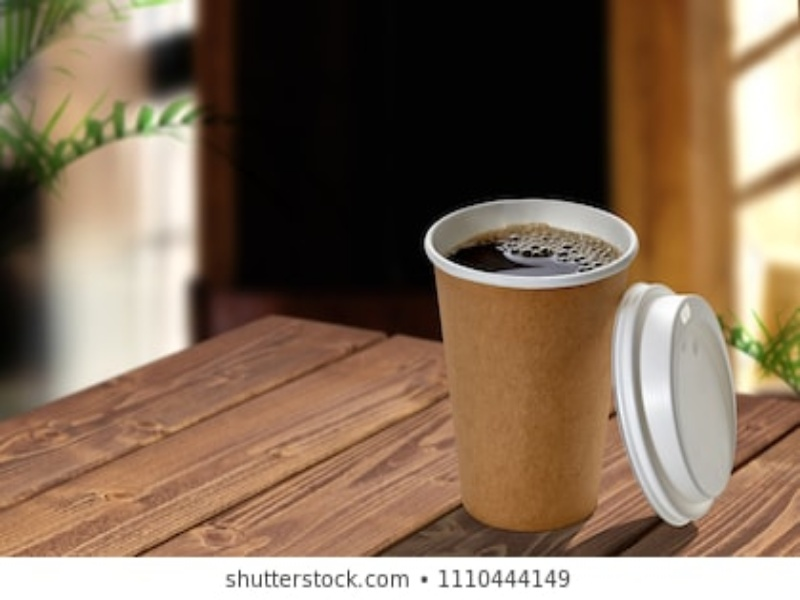coffee-lid: (608, 277, 739, 529)
